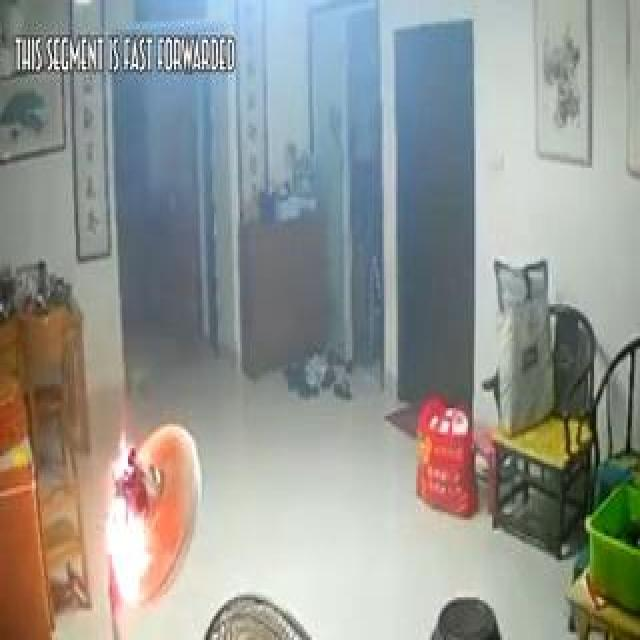Fire: (99, 369, 173, 628)
